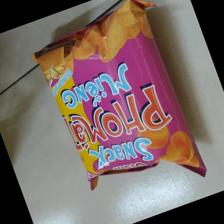Oishi_phomat: (31, 1, 208, 194)
